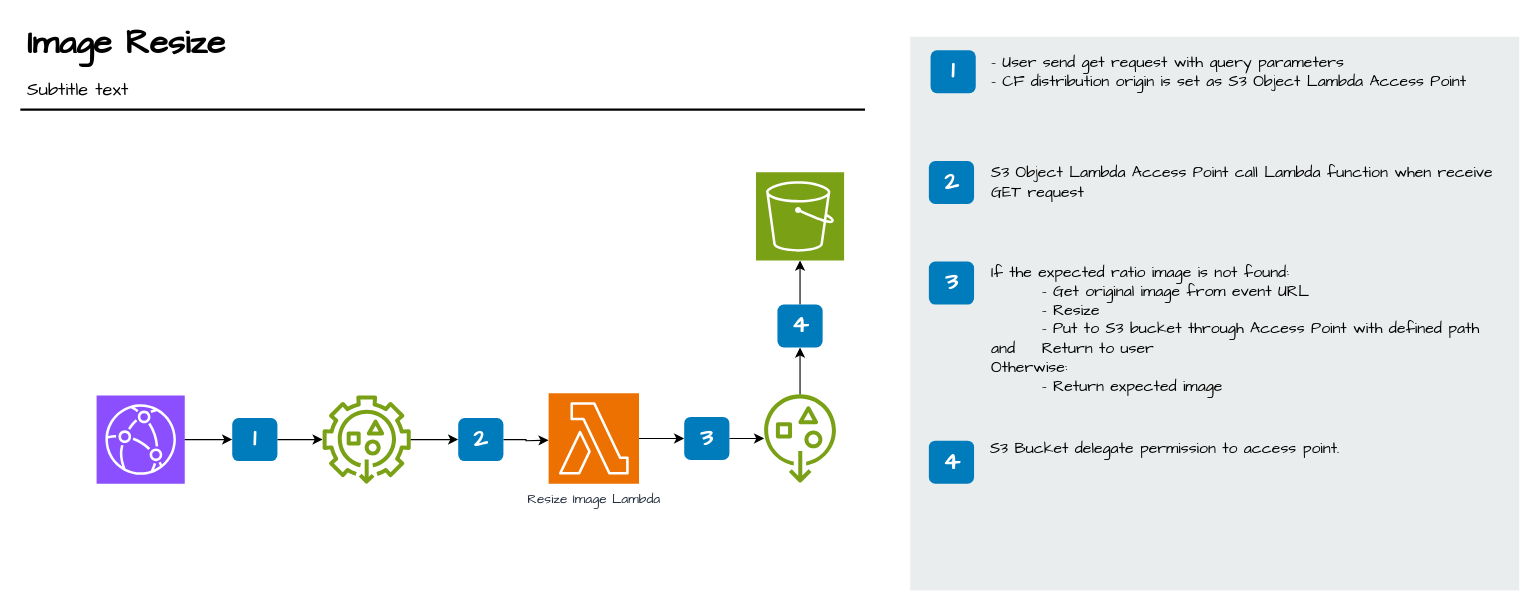
The diagram is 1539 pixels wide and 610 high, and some of its shapes have lost their labels. Each missing label, with the box of its shape:
Access Point: (763, 394, 836, 482)
Cloudfront Distribution: (95, 394, 185, 484)
S3 Bucket: (755, 171, 844, 260)
S3 Object Lambda Access Point: (322, 395, 410, 483)
